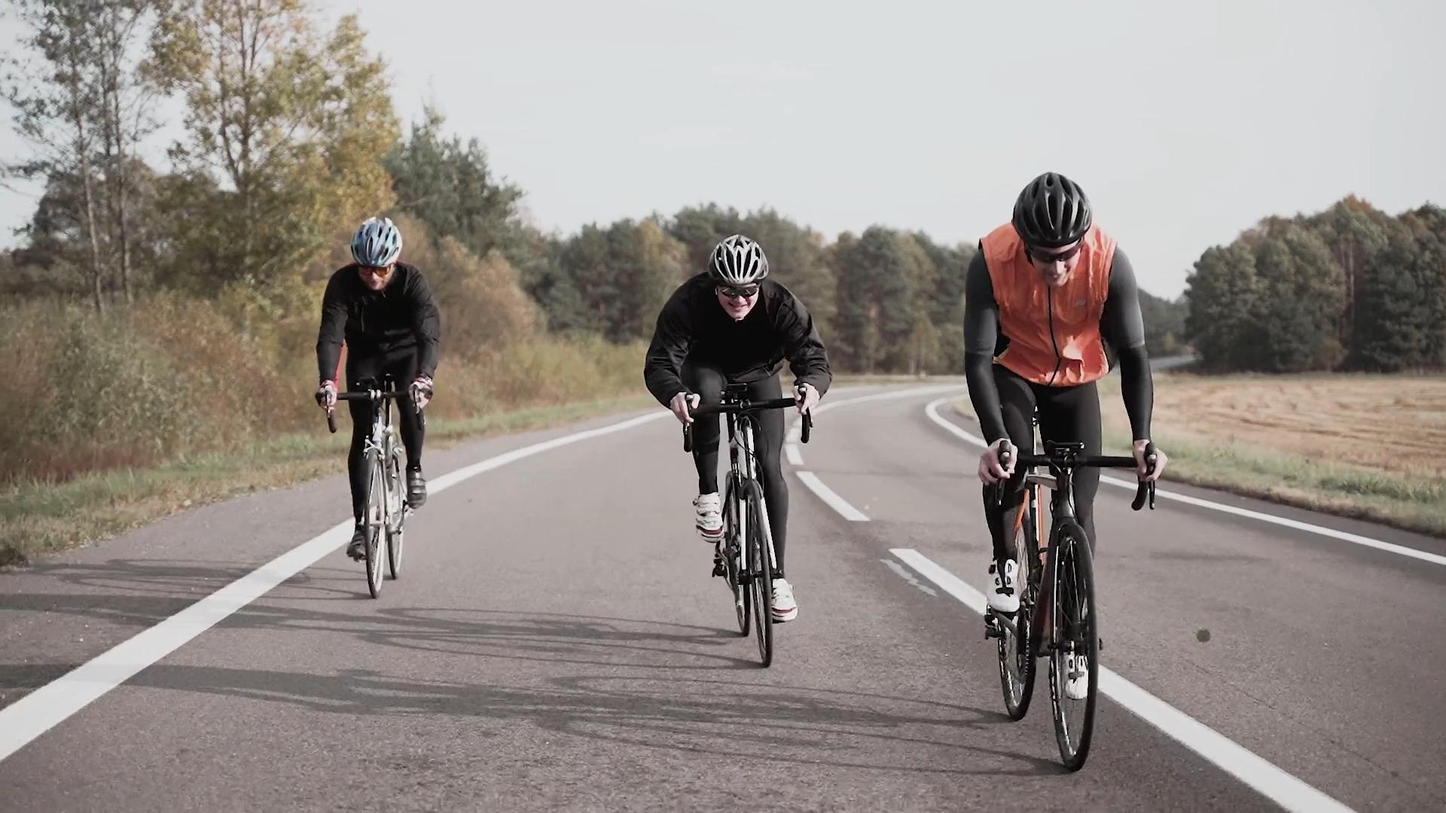bicyclist: (963, 173, 1170, 776), (642, 233, 831, 669), (315, 215, 440, 598)
helmet: (1010, 172, 1090, 288), (705, 234, 772, 323), (349, 217, 404, 292)
